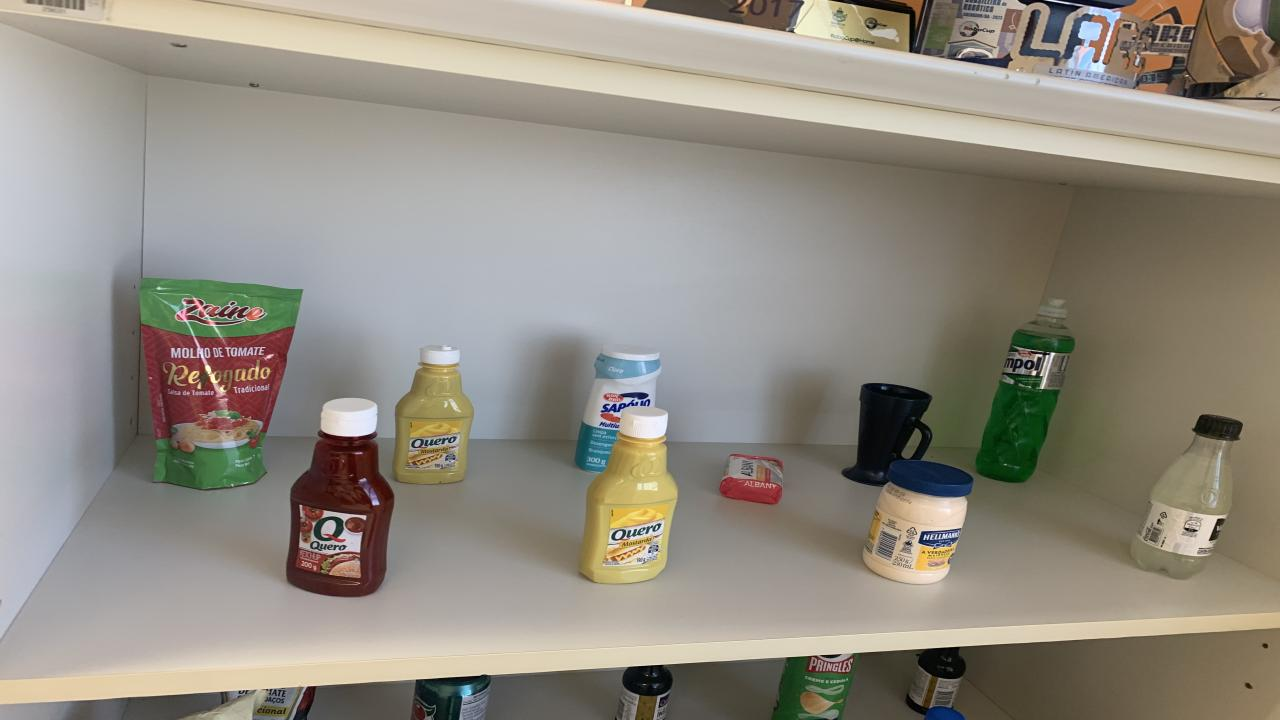Cleaner-Cleanup_Items: (575, 345, 660, 472)
Detergent-Cleanup_Items: (975, 298, 1075, 482)
English_Sauce-Pantry_Items: (905, 647, 965, 712), (615, 666, 672, 720)
Flakes-Snacks: (180, 690, 268, 720)
Guarana_Can-Drinks: (410, 675, 490, 720)
Ketchup-Pantry_Items: (288, 398, 395, 596)
Mayonnaise-Pantry_Items: (862, 458, 972, 583), (925, 707, 965, 720)
Mustard-Pantry_Items: (580, 407, 678, 583), (392, 347, 472, 484)
Pringles-Snacks: (772, 654, 858, 720)
Soap-Cleanup_Items: (720, 454, 782, 504)
Soda-Drinks: (1130, 414, 1242, 579)
Tomato_Sauce-Pantry_Items: (140, 278, 302, 489), (252, 686, 315, 720), (222, 690, 250, 703)
